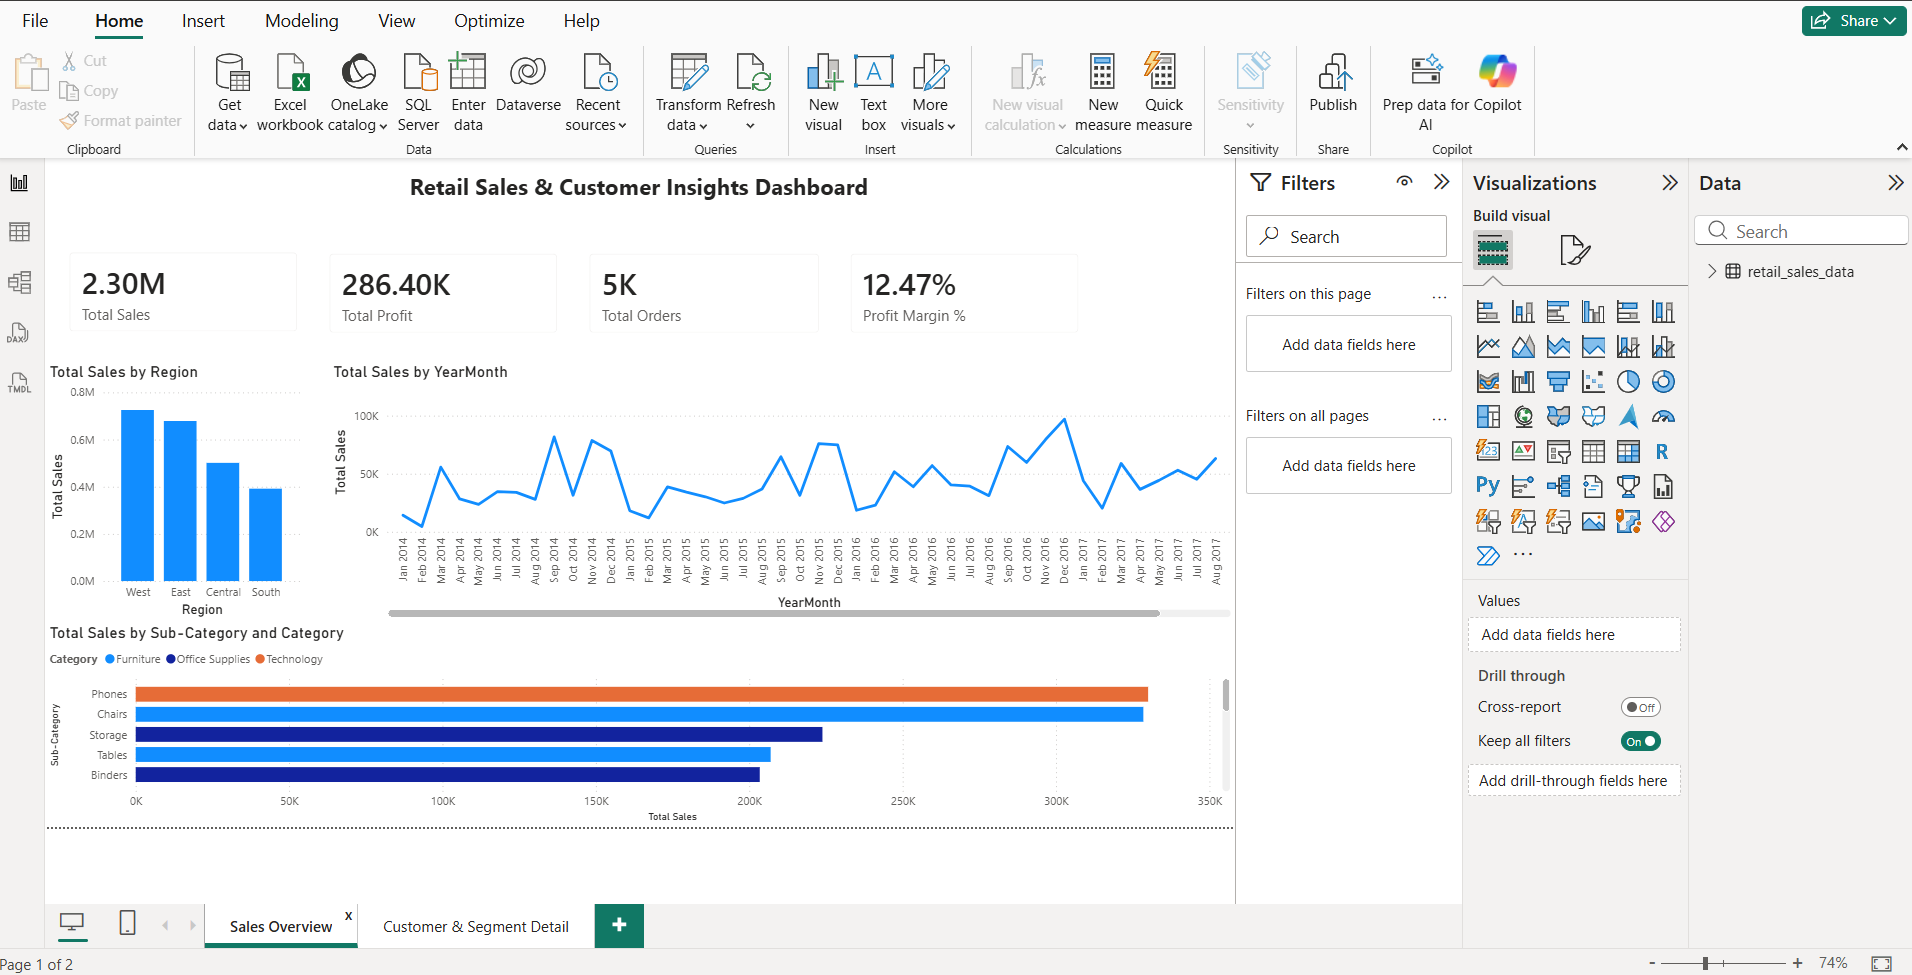

This screenshot's page, from the dashboard's own definition file:
{"tool":"powerbi","page":{"name":"Sales  Overview","canvas":[1280,720],"ordinal":0},"visuals":[{"type":"cardVisual","fields":{"Data":["retail_sales_data.Total Sales"]},"box":[9.4,84.7,279.7,119.7],"z":0},{"type":"cardVisual","fields":{"Data":["retail_sales_data.Total Profit"]},"box":[289.1,86.1,279.7,119.7],"z":1000},{"type":"cardVisual","fields":{"Data":["retail_sales_data.Total Orders"]},"box":[568.9,86.1,281.1,119.7],"z":2000},{"type":"cardVisual","fields":{"Data":["retail_sales_data.Profit Margin %"]},"box":[849.9,86.1,279.7,119.7],"z":3000},{"type":"clusteredColumnChart","fields":{"Category":["retail_sales_data.Region"],"Y":["retail_sales_data.Total Sales"]},"box":[0,219.6,279.9,279.9],"z":4000},{"type":"lineChart","fields":{"Y":["retail_sales_data.Total Sales"],"Category":["retail_sales_data.YearMonth"]},"box":[304.6,219.6,975.6,279.9],"z":5000},{"type":"barChart","fields":{"Category":["retail_sales_data.Sub-Category"],"Y":["retail_sales_data.Total Sales"],"Series":["retail_sales_data.Category"]},"box":[0,500,1280,220],"z":6000},{"type":"textbox","box":[387.1,10,561.4,55.7],"z":6001}]}

Visuals, with their boxes on the page's 1280x720 design canvas (x1, y1, x2, y2). These are canvas units, not pixel positions in the 1912x975 screenshot, which may show the page scaled, cropped or inside an application window:
cardVisual - retail_sales_data.Total Sales: rect(9, 85, 289, 204)
cardVisual - retail_sales_data.Total Profit: rect(289, 86, 569, 206)
cardVisual - retail_sales_data.Total Orders: rect(569, 86, 850, 206)
cardVisual - retail_sales_data.Profit Margin %: rect(850, 86, 1130, 206)
clusteredColumnChart - retail_sales_data.Region x retail_sales_data.Total Sales: rect(0, 220, 280, 500)
lineChart - retail_sales_data.Total Sales x retail_sales_data.YearMonth: rect(305, 220, 1280, 500)
barChart - retail_sales_data.Sub-Category x retail_sales_data.Total Sales: rect(0, 500, 1280, 720)
textbox: rect(387, 10, 948, 66)
